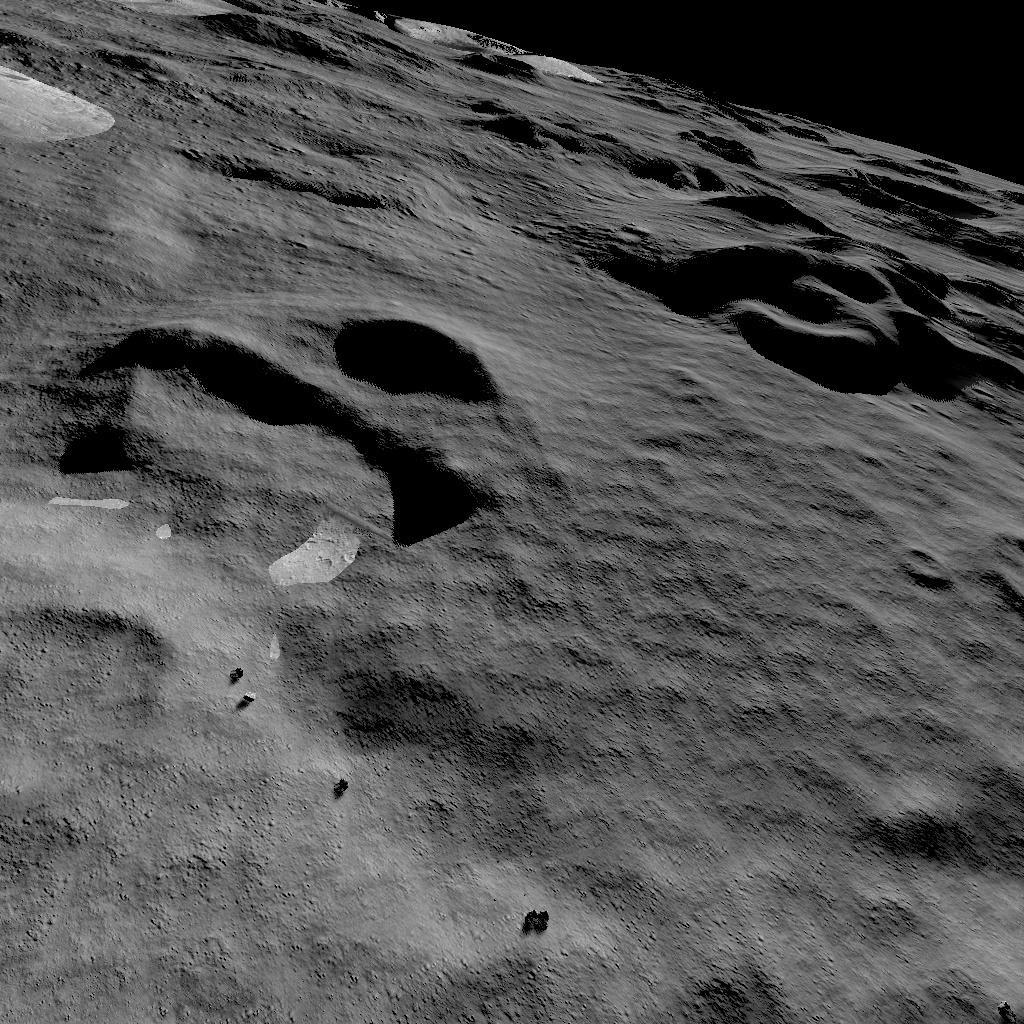Boulders: (0, 46, 135, 162)
Crater: (599, 138, 1024, 404), (79, 296, 507, 554), (0, 586, 181, 840), (889, 528, 957, 592)
Plan surface: (564, 416, 877, 1024), (0, 868, 505, 1024)
